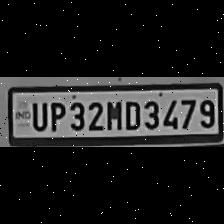2: (85, 97, 103, 130)
3: (65, 97, 85, 130), (141, 97, 159, 129)
4: (160, 96, 178, 128)
7: (177, 96, 195, 128)
9: (196, 96, 216, 128)
D: (122, 97, 140, 129)
M: (104, 98, 122, 130)
P: (47, 99, 65, 131)
U: (28, 98, 48, 130)
